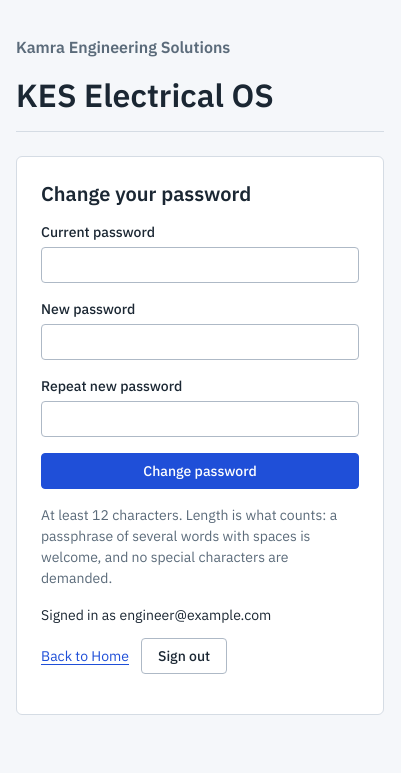
Test case: ChangePasswordPage › refuses  / four new words with spaces / four new words with spaces before anything is sent
The image size is (401, 773).
Type "four new words with spaces" into the password field labelled "New password" at (200, 342), box top-left (41, 324), bottom-right (359, 360)
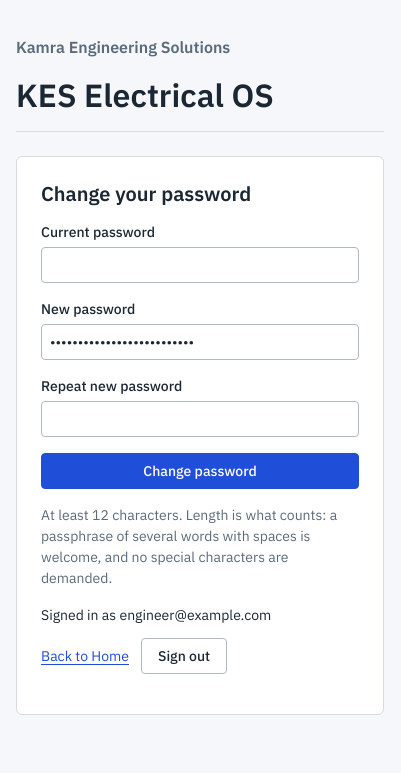
Type "four new words with spaces" into the password field labelled "Repeat new password" at (200, 419), box top-left (41, 401), bottom-right (359, 437)
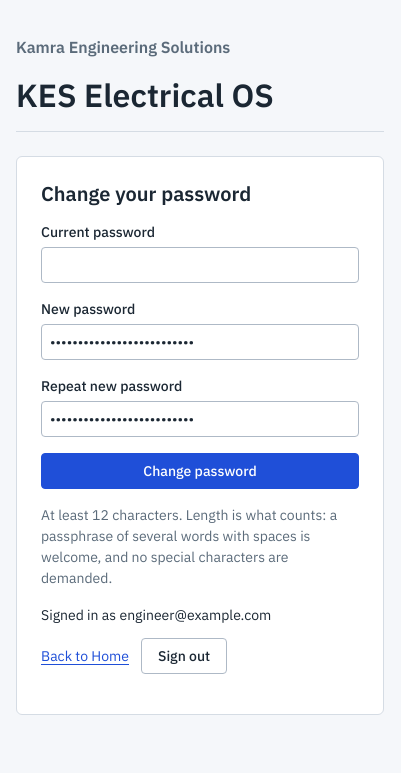
Click the button "Change password" at (200, 471), box top-left (41, 453), bottom-right (359, 489)
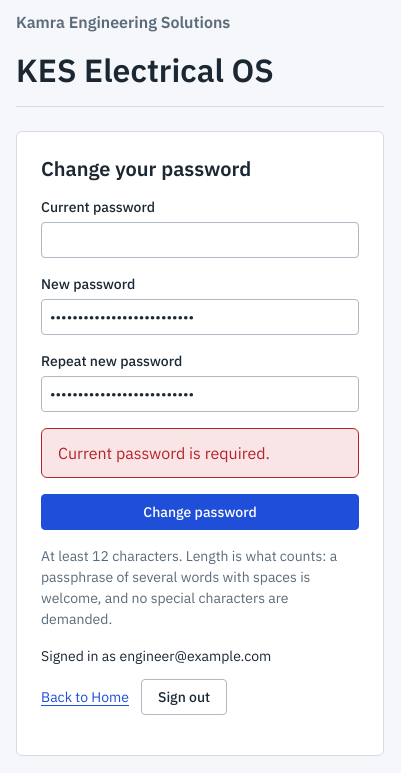
Expected: the message reads "Current password is required.", top-left (58, 443), bottom-right (270, 463)
